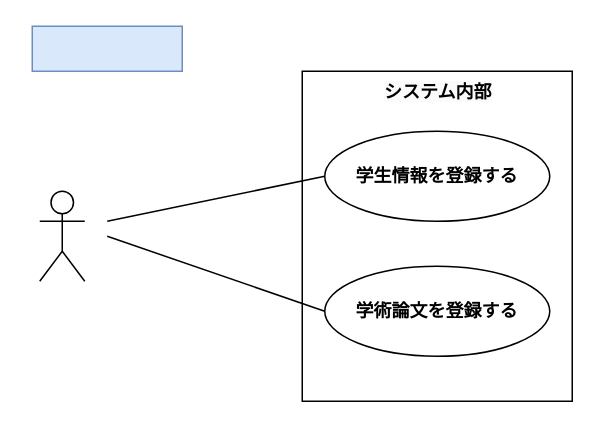
This 599x428 diagram has some shape labels left out. The centre of each missing label's shape, as x and y in pixels:
Web学生 論文: (x=106, y=48)
ユーザー: (x=61, y=235)
